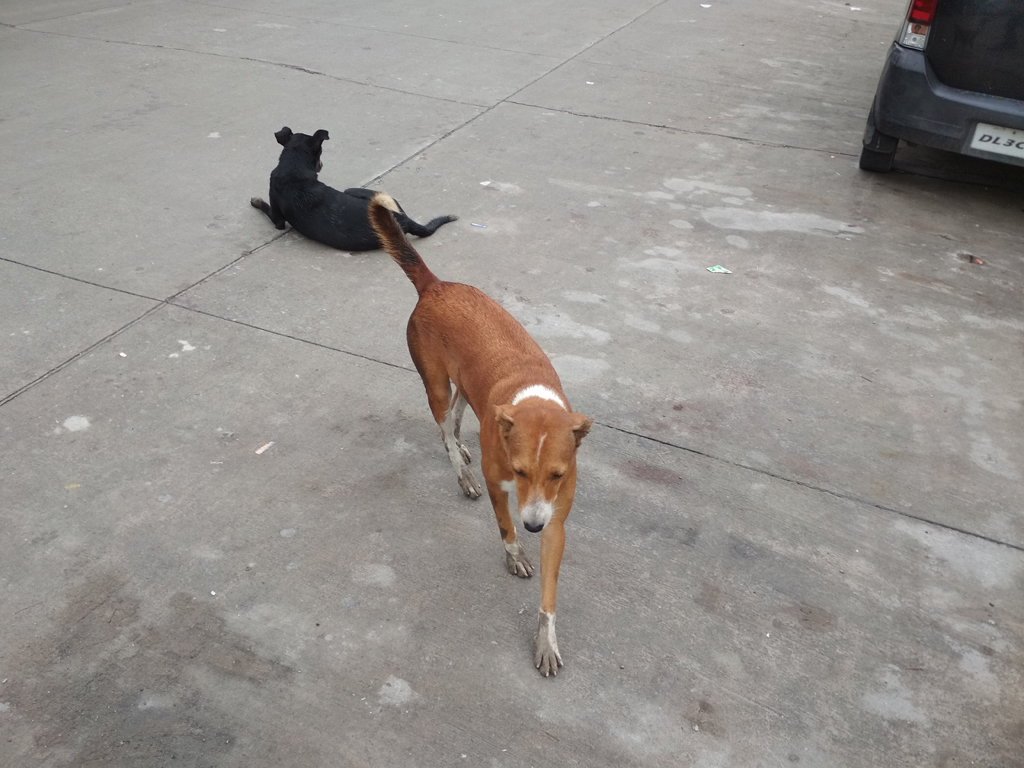dog: (369, 195, 594, 676), (249, 125, 461, 252)
